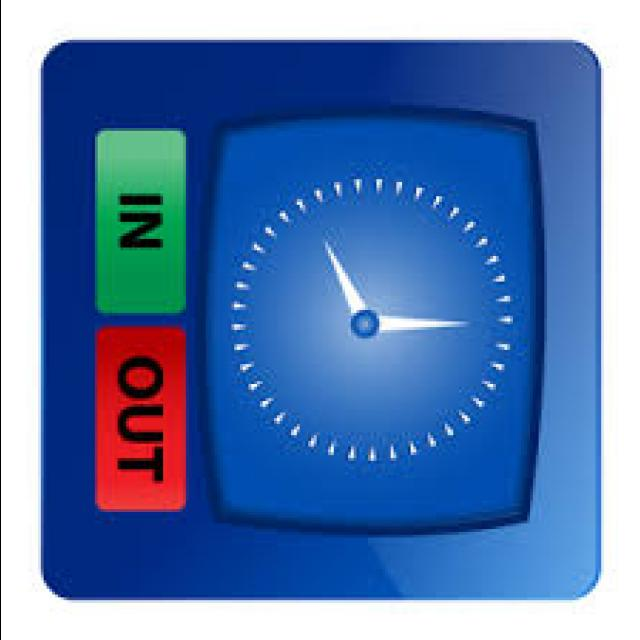clock: (8, 28, 610, 640)
